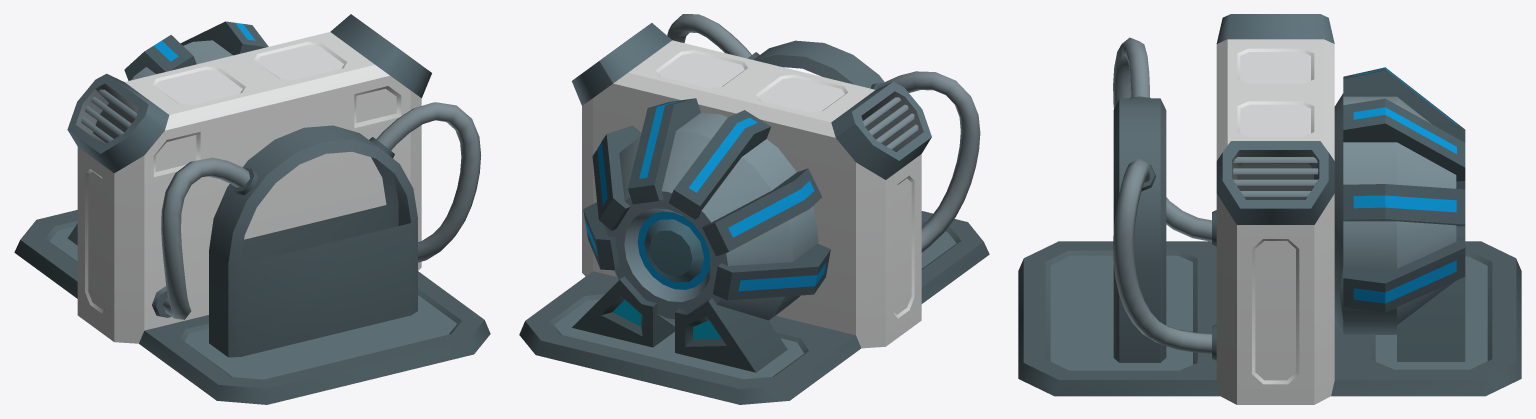
File: Generator_001.fbx
3 renders of one model, left to right at view 1: azimuth 30°, elevation 25°; view 2: azimuth 150°, elevation 25°; view 3: azimuth 270°, elevation 25°, orthographic. The views are drawn at different scales.
Visible parts, largest first — view 1: Generator_001; view 2: Generator_001; view 3: Generator_001.
Boxes of the visible parts, left/top/right/bottom form: Generator_001: left=14, top=14, right=490, bottom=404; Generator_001: left=519, top=14, right=989, bottom=404; Generator_001: left=1018, top=14, right=1521, bottom=404.
Bounding box in the file's own units: 189 × 233 × 127.
